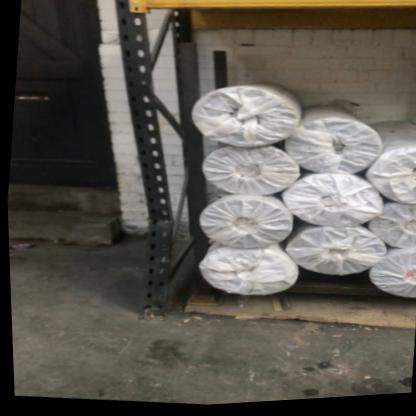vertical_damage: (136, 195, 183, 253)
